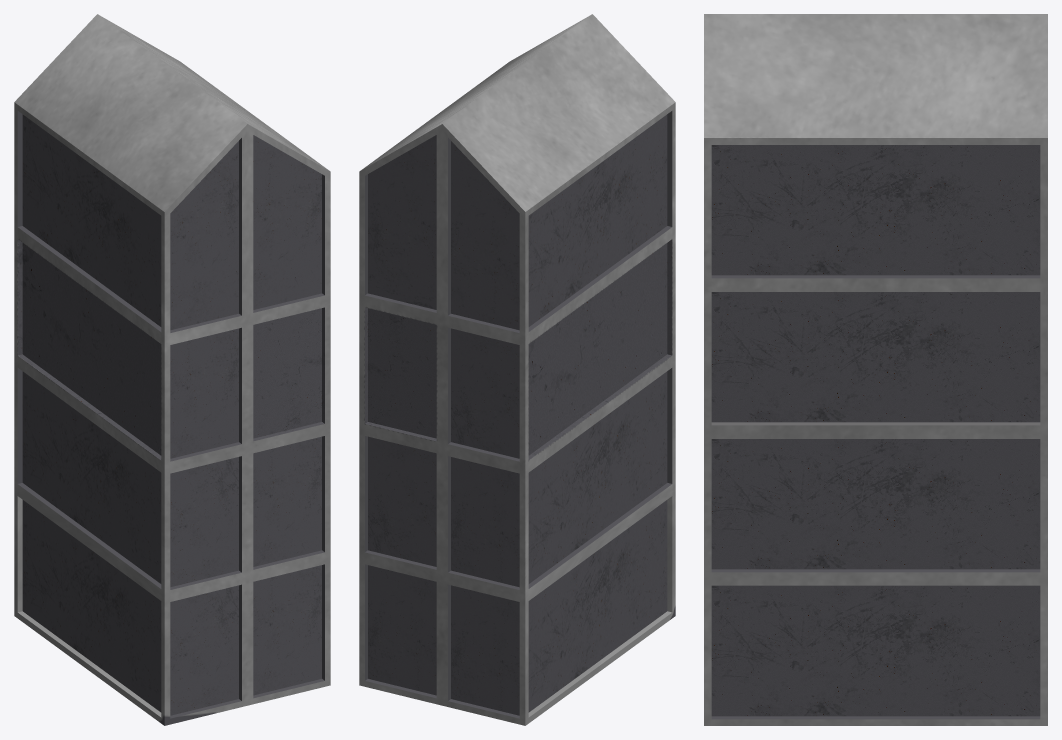
The model's file is immeuble05.fbx.
3 renders of one model, left to right at view 1: azimuth 30°, elevation 25°; view 2: azimuth 150°, elevation 25°; view 3: azimuth 270°, elevation 25°, orthographic. The views are drawn at different scales.
Visible parts, largest first — view 1: immeuble05; view 2: immeuble05; view 3: immeuble05.
Boxes of the visible parts, bbox=[...] form: immeuble05: bbox=[14, 14, 330, 725]; immeuble05: bbox=[359, 14, 675, 725]; immeuble05: bbox=[704, 14, 1047, 725].
Bounding box in the file's own units: 1561 × 5221 × 2444.
1 material, 1 textured.
